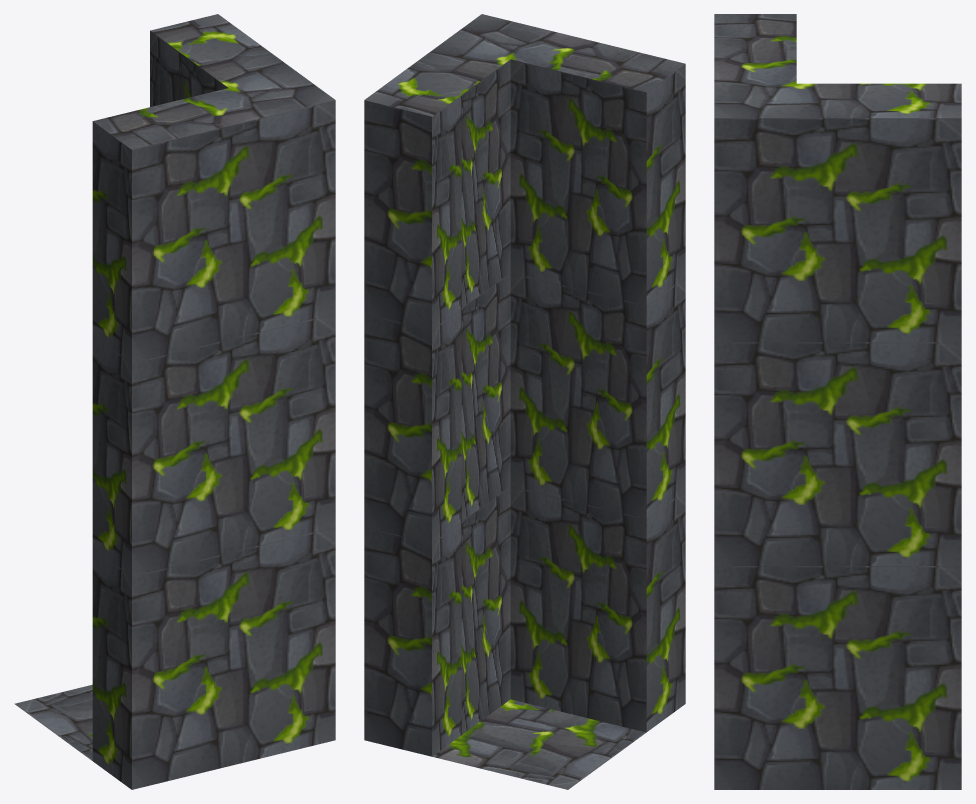
The model's file is wall_corner_moss.fbx.
The picture shows the model from 3 angles, left to right: view 1: azimuth 30°, elevation 25°; view 2: azimuth 150°, elevation 25°; view 3: azimuth 270°, elevation 25°; orthographic projection. The views are drawn at different scales.
Visible parts, largest first — view 1: Cube.002, Plane.001; view 2: Cube.002, Plane.001; view 3: Cube.002.
Part boxes in pixels (x1,y1,x2,y2): Cube.002: [92, 14, 335, 789]; Plane.001: [14, 684, 92, 760]; Cube.002: [364, 14, 685, 756]; Plane.001: [432, 699, 646, 789]; Cube.002: [714, 14, 961, 789].
Bounding box in the file's own units: 2 × 2 × 6.
